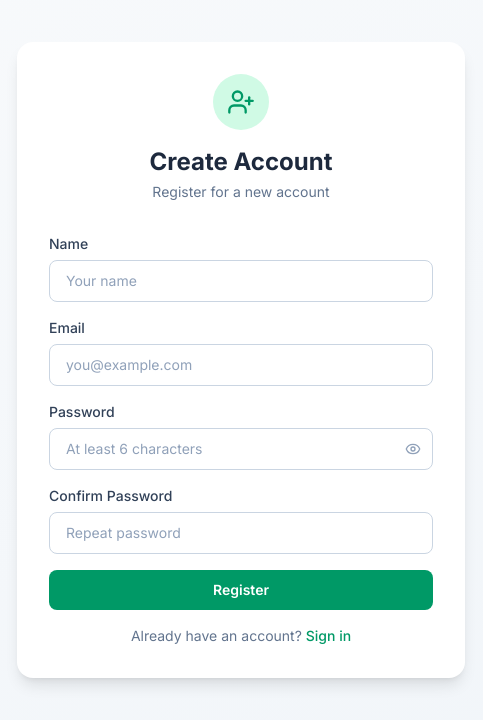
RegisterPage › shows error when password is less than 6 characters
Type "Test User" into the field labelled "Name" at x=241, y=281, box [49,260,433,302]
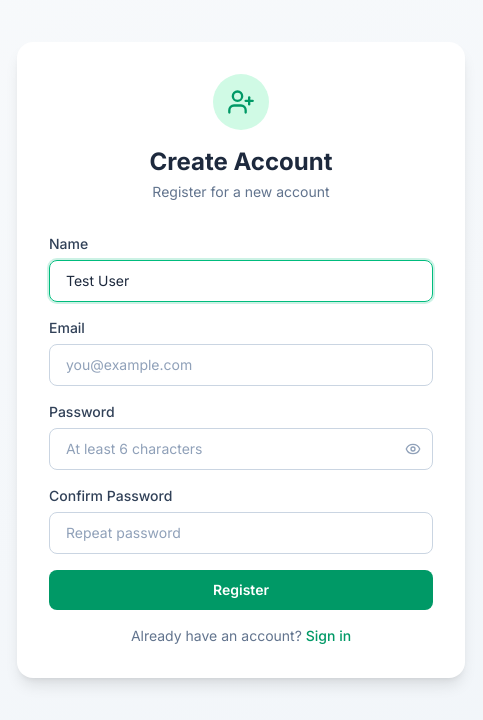
Type "test@test.com" into the field labelled "Email" at x=241, y=365, box [49,344,433,386]
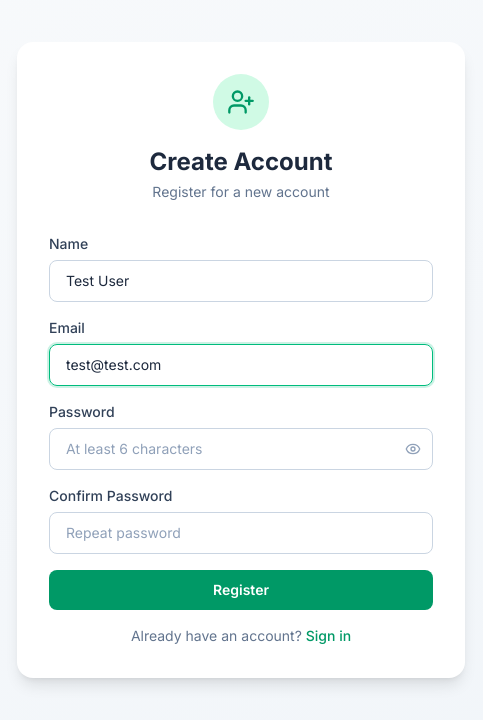
Type "123" into the password field labelled "Password" at x=241, y=449, box [49,428,433,470]
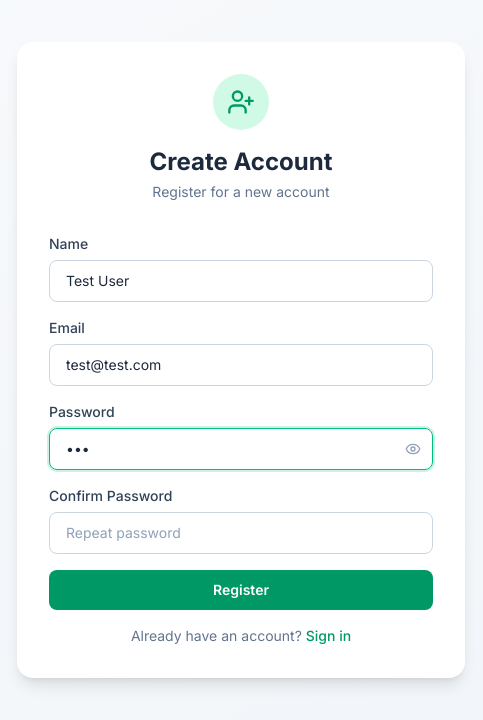
Type "123" into the password field labelled "Confirm Password" at x=241, y=533, box [49,512,433,554]
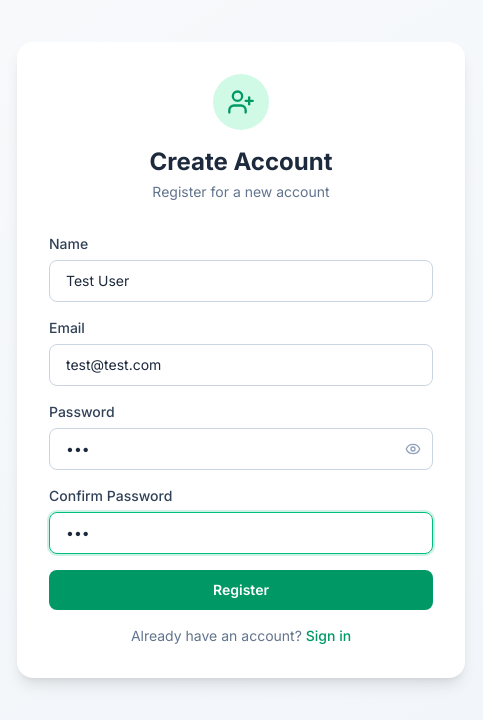
Click the button "Register" at x=241, y=590, box [49,570,433,610]
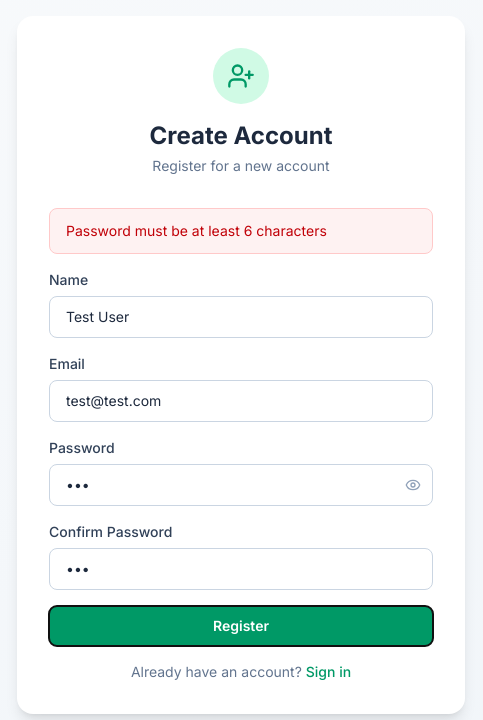
Check: the text "Password must be at least 6 characters" is shown, box [49,208,433,254]
